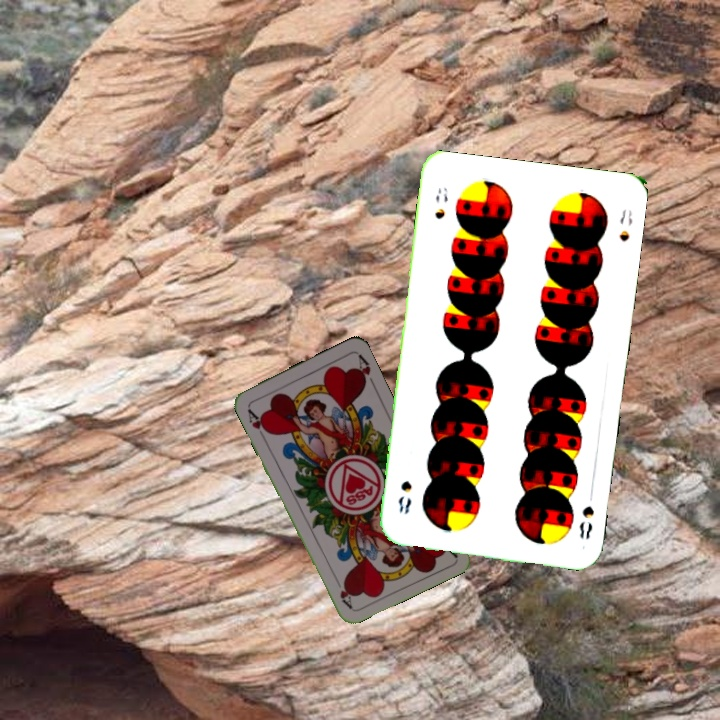HA: (243, 404, 272, 441)
S8: (575, 501, 596, 542), (430, 183, 451, 222)
